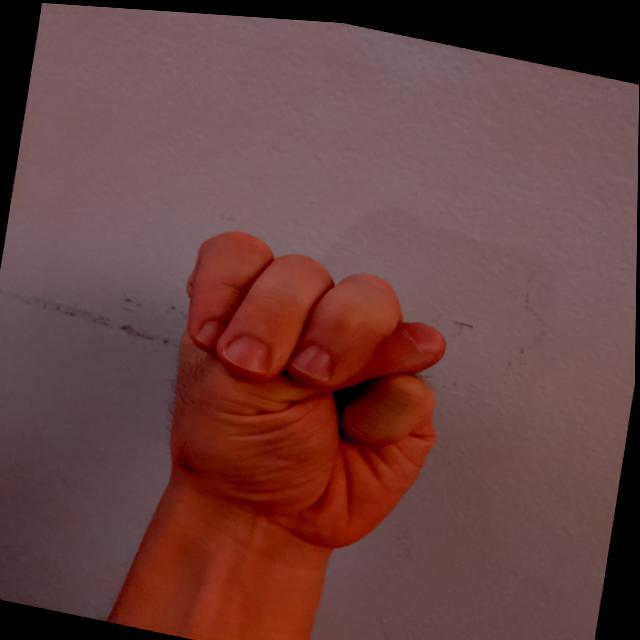M: (141, 209, 471, 567)
